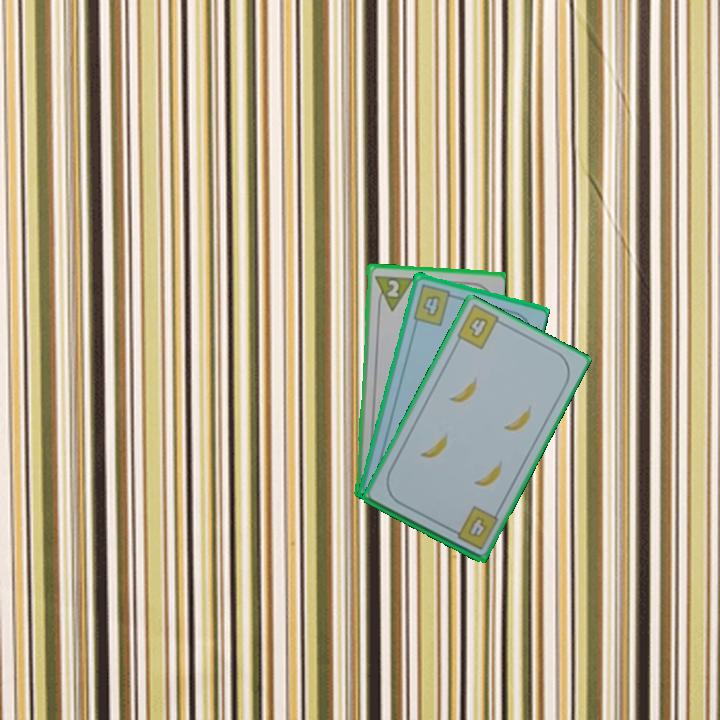2p: (370, 272, 414, 313)
4b: (446, 503, 501, 552), (409, 280, 459, 328), (465, 313, 491, 341)
